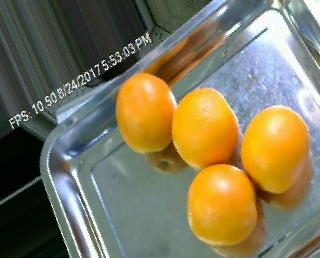Orange: (240, 104, 311, 193), (188, 163, 259, 245), (172, 87, 239, 169), (115, 72, 176, 152)
